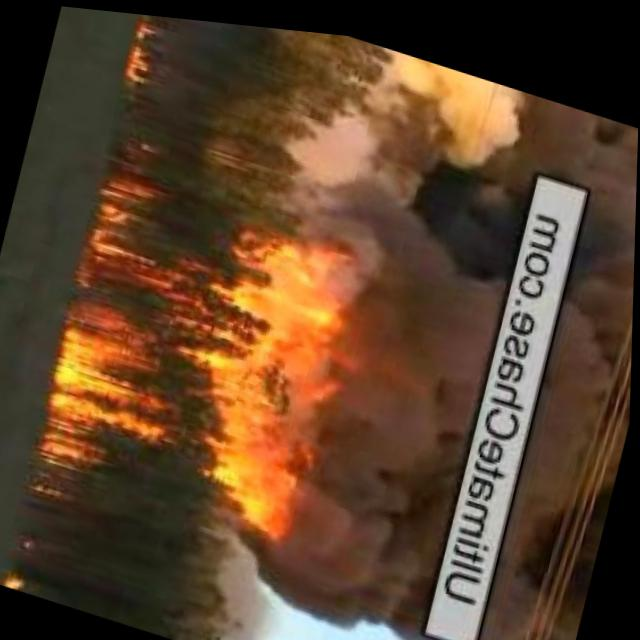Fire: (37, 147, 369, 541), (122, 10, 159, 83), (1, 565, 34, 592)
